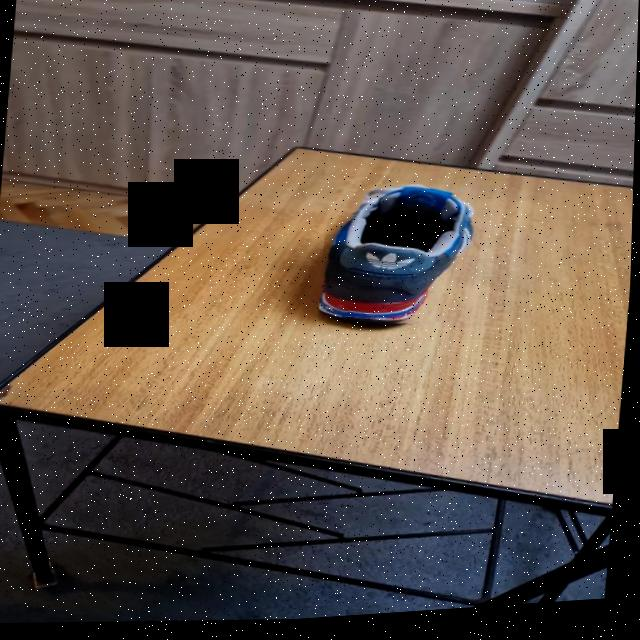shoe: (320, 182, 486, 339)
